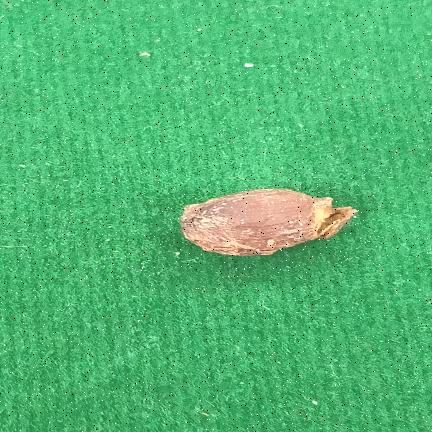husk: (181, 189, 357, 256)
